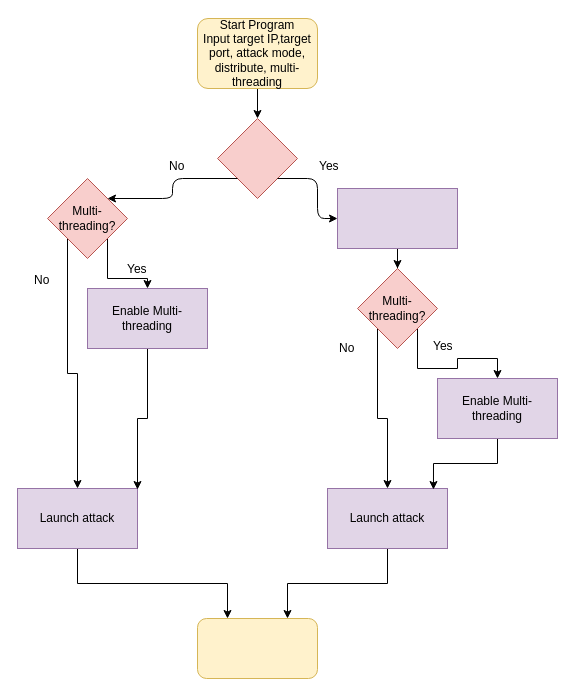
This 575x696 diagram has some shape labels left out. Here are the shapes that lost their labels. From the top down, the box of each, then its label:
(216, 118, 298, 198): Distributed?
(336, 188, 458, 248): Connect to other bots and run bot.py
(196, 618, 318, 678): Target
